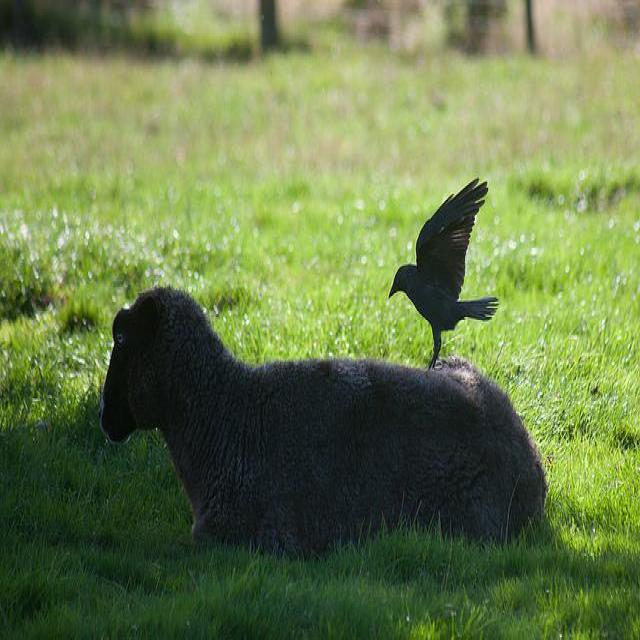Sheep: (104, 288, 549, 553)
